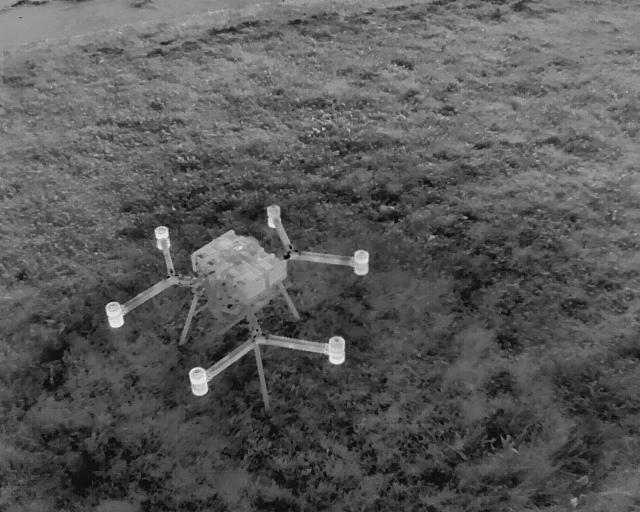drone: (100, 180, 370, 420)
